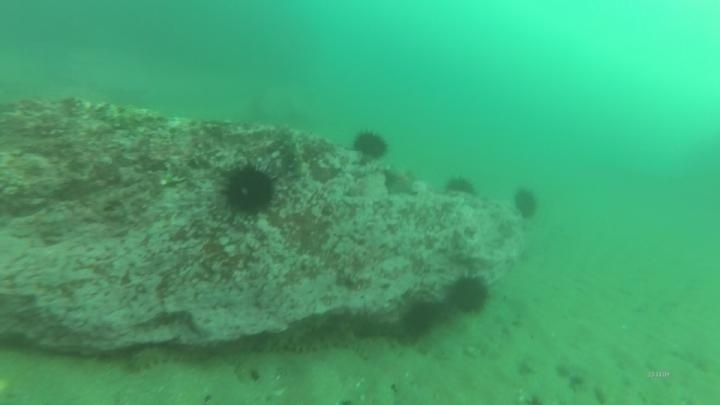echinus: (218, 160, 280, 219), (445, 271, 492, 317), (398, 296, 441, 341), (350, 127, 391, 162), (510, 185, 542, 222), (443, 173, 479, 200)
holothurian: (270, 321, 374, 360), (274, 125, 314, 192), (121, 343, 198, 377)
starfish: (380, 164, 421, 199)
